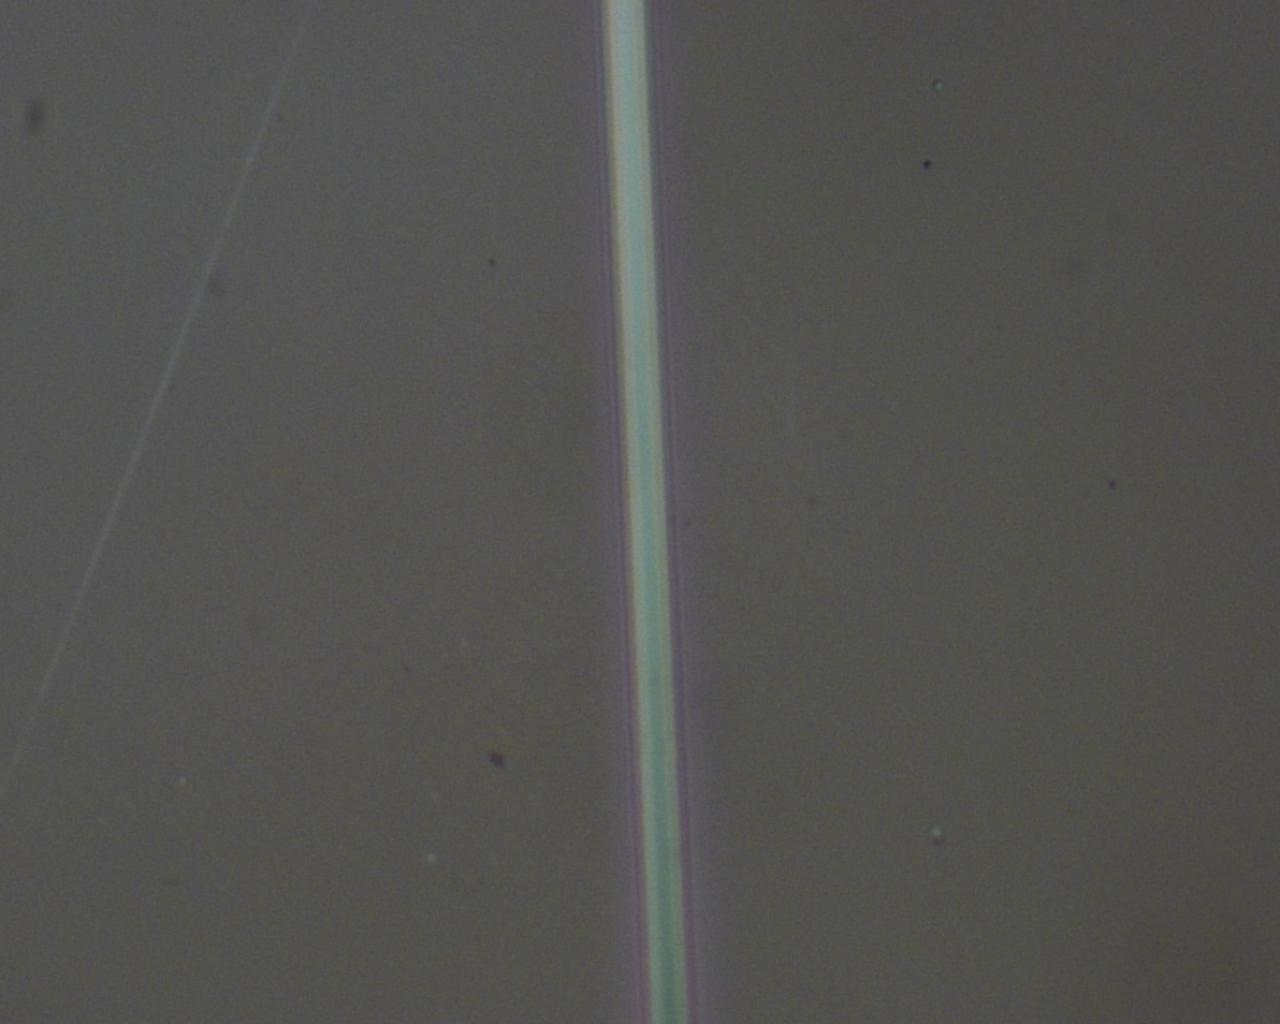fiber: (601, 598, 1280, 911)
